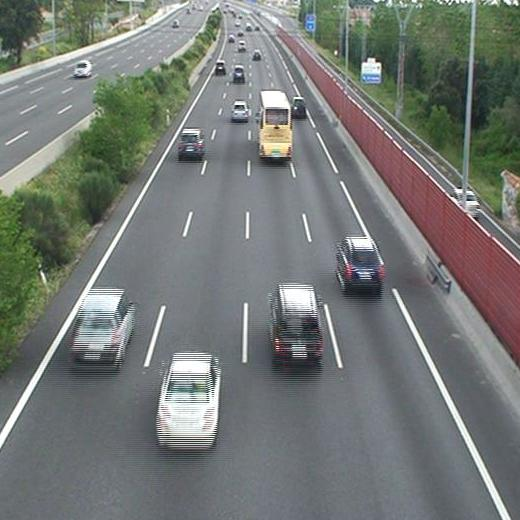bus: (259, 91, 292, 161)
car: (156, 353, 219, 445), (70, 290, 132, 366), (270, 285, 323, 361), (337, 237, 383, 288), (179, 129, 203, 156), (231, 101, 248, 119), (291, 98, 306, 116), (233, 66, 244, 79), (214, 60, 224, 71), (237, 41, 246, 50), (253, 50, 261, 58)
